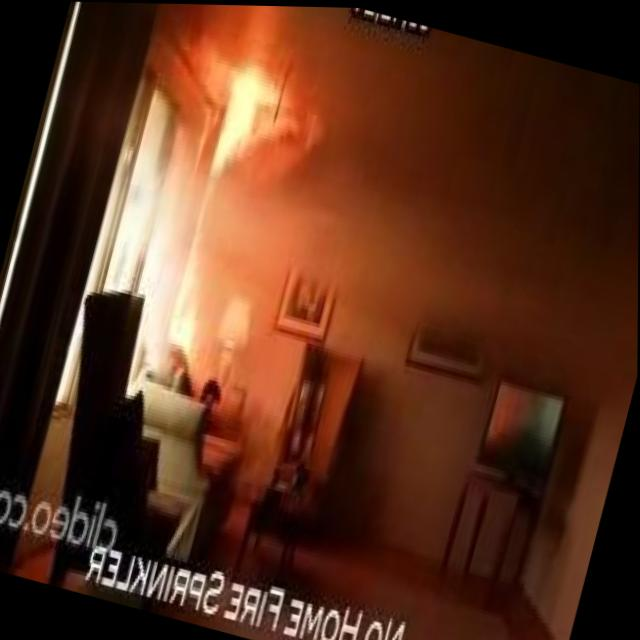fire: (211, 49, 311, 189), (165, 222, 230, 350)
